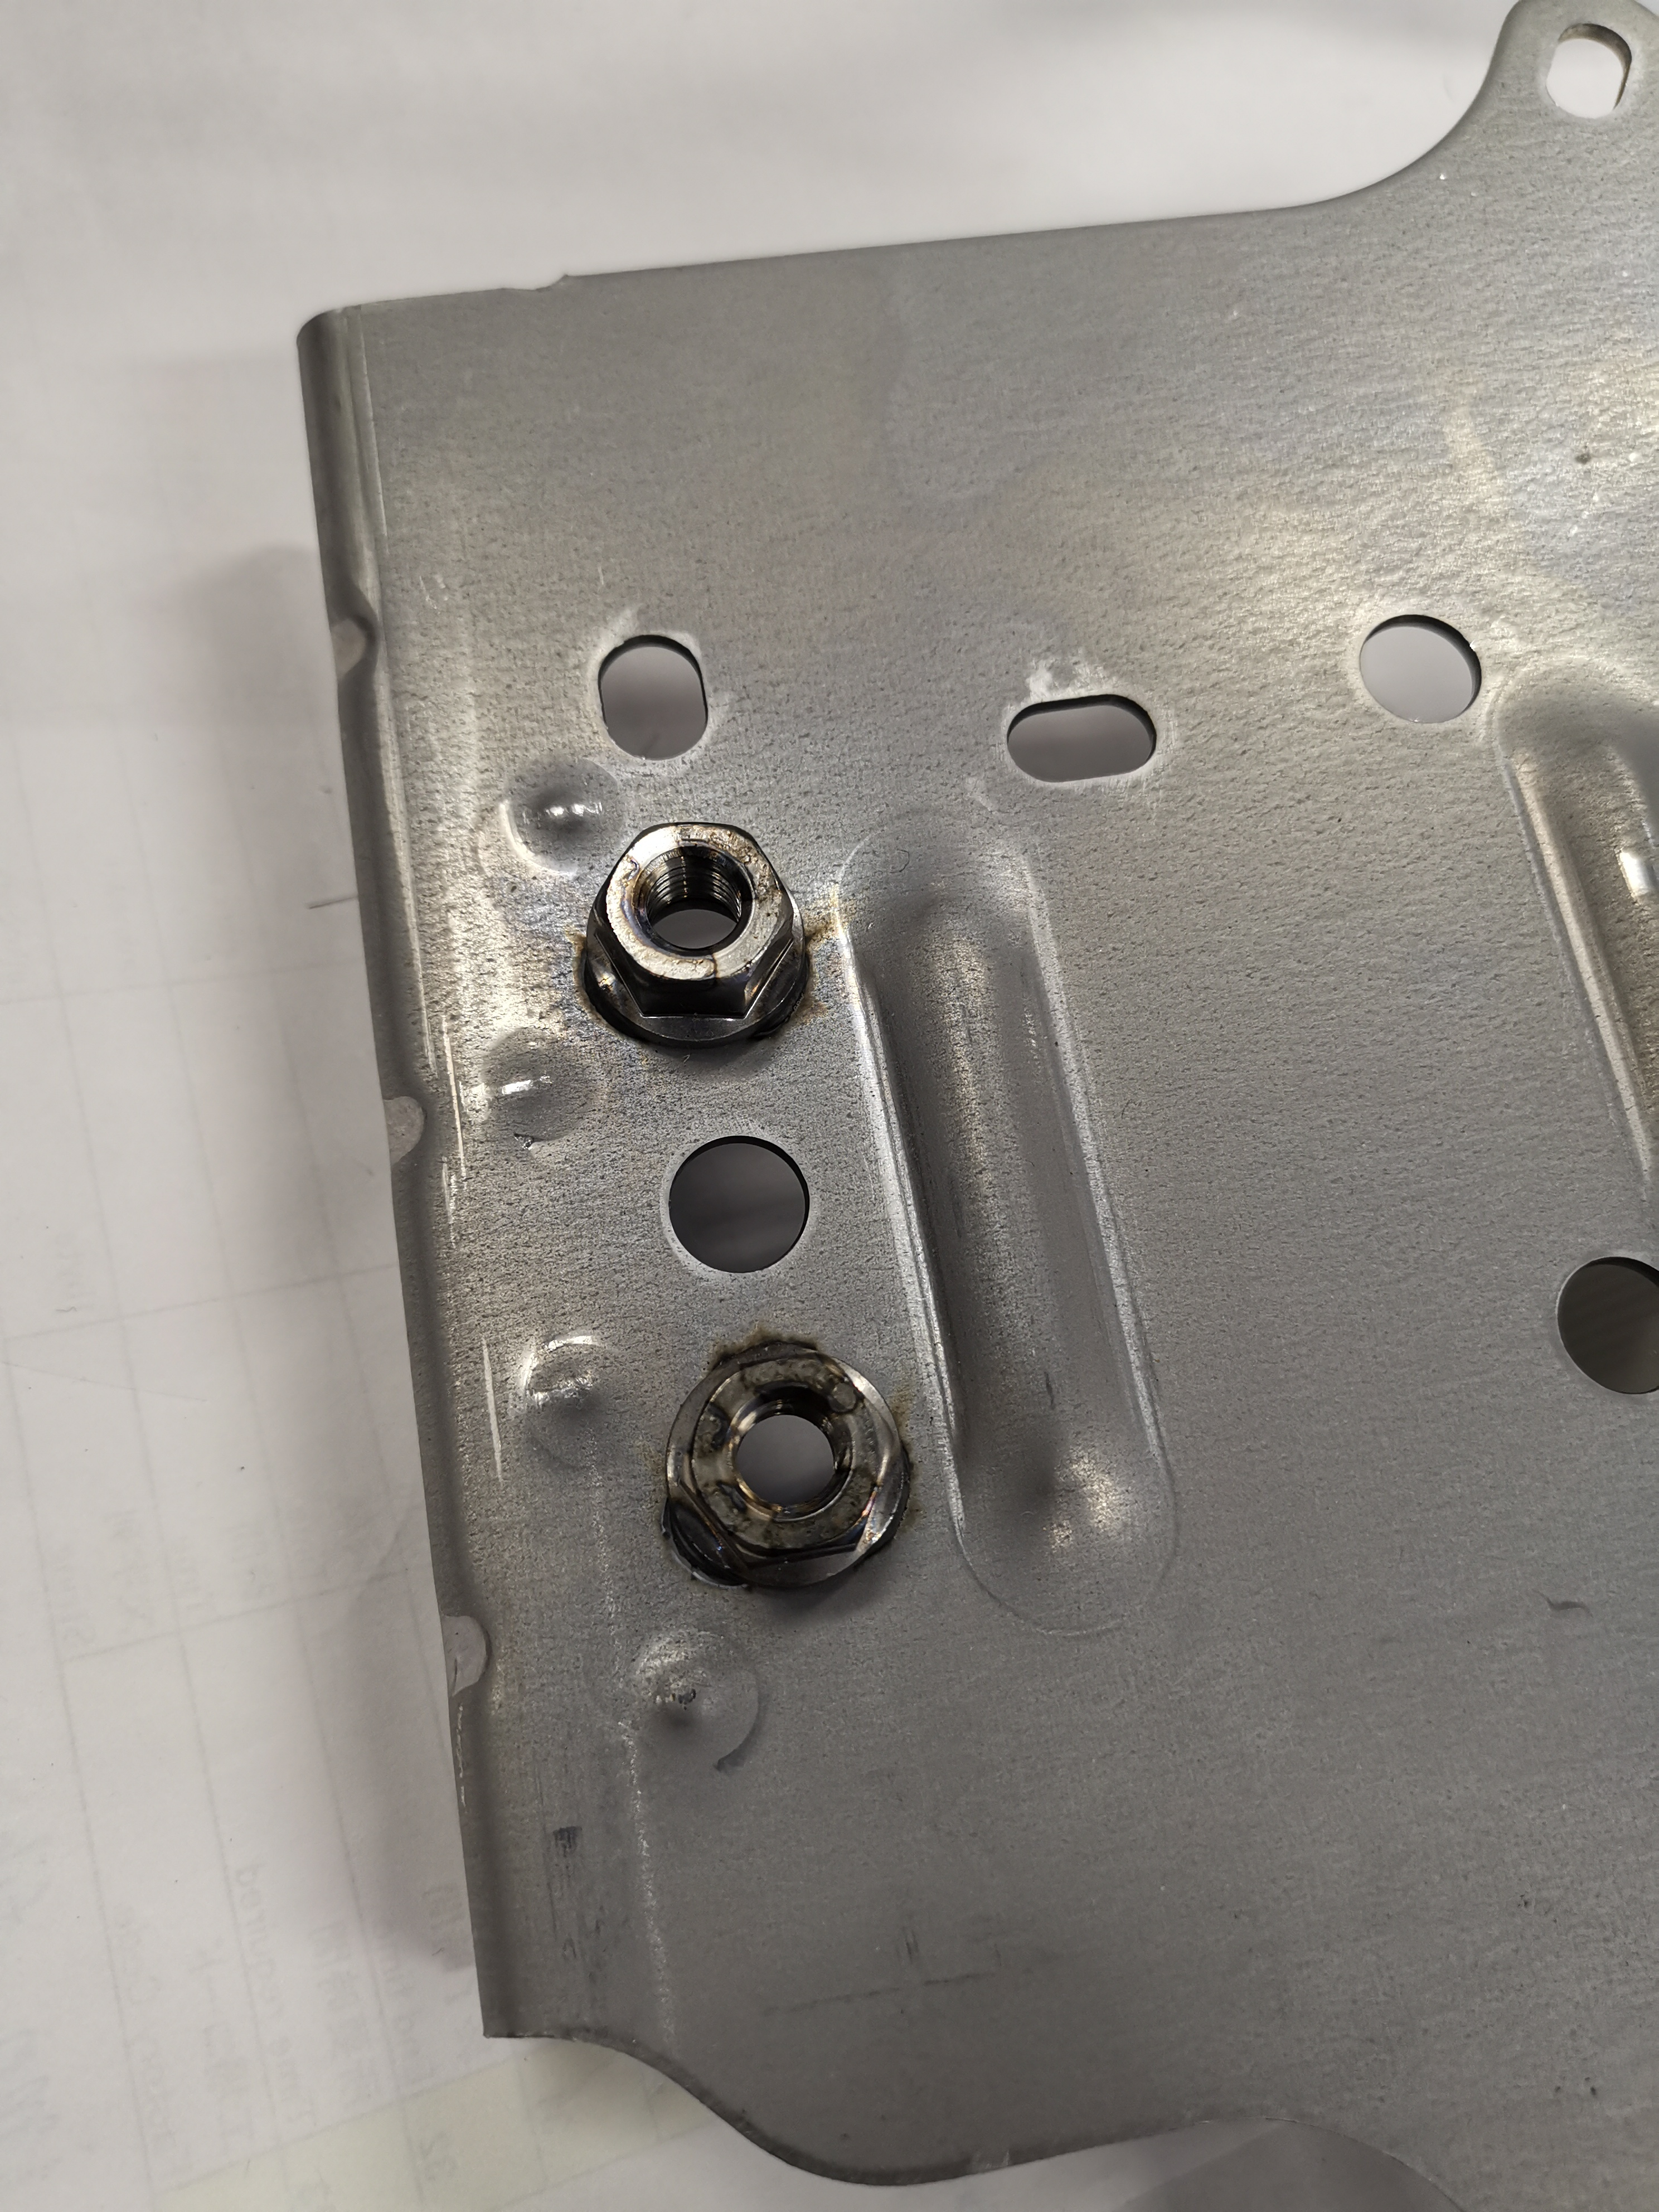dog: (653, 1329, 917, 1599), (575, 813, 817, 1057)
